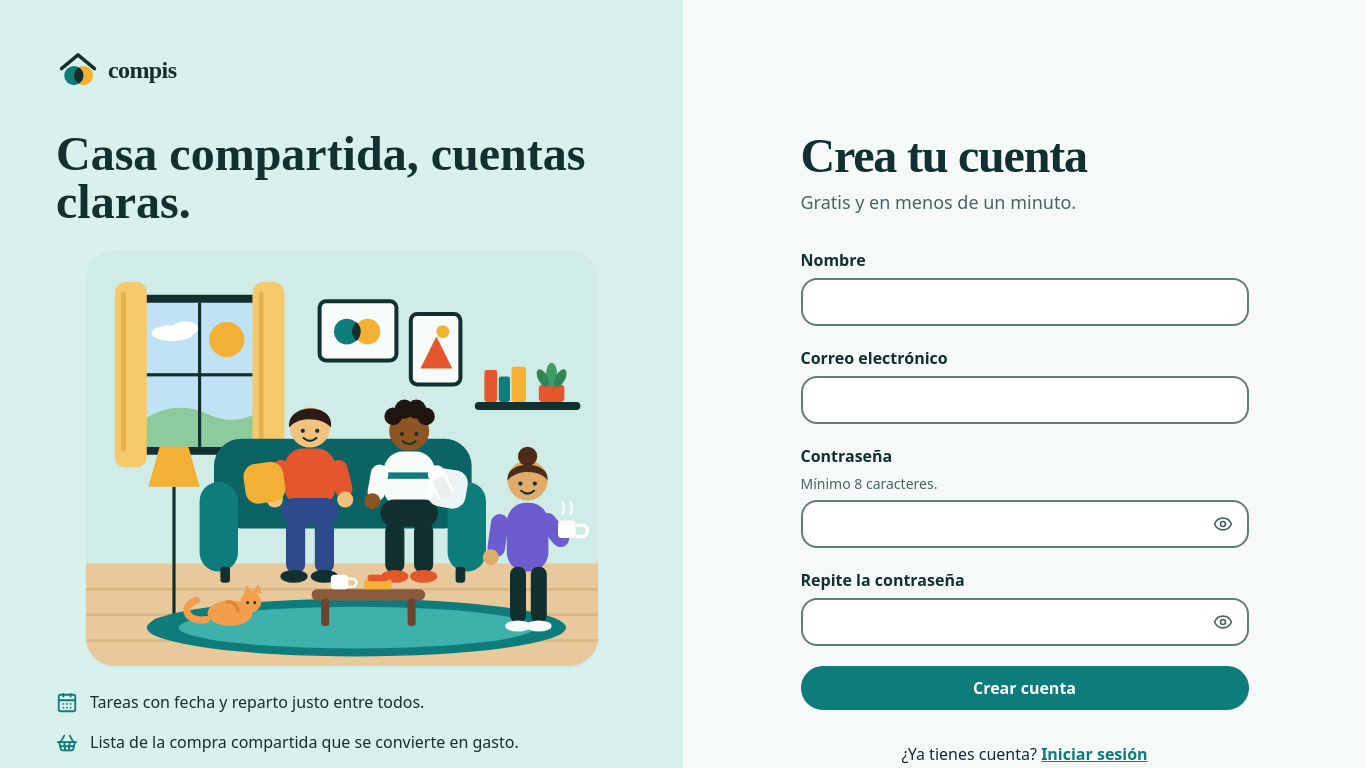
Test: signup › creates the account and goes to the login page
Type "Ana" into the field labelled "Nombre".
click(1024, 302); type("Ana")  # box [800,278,1248,326]
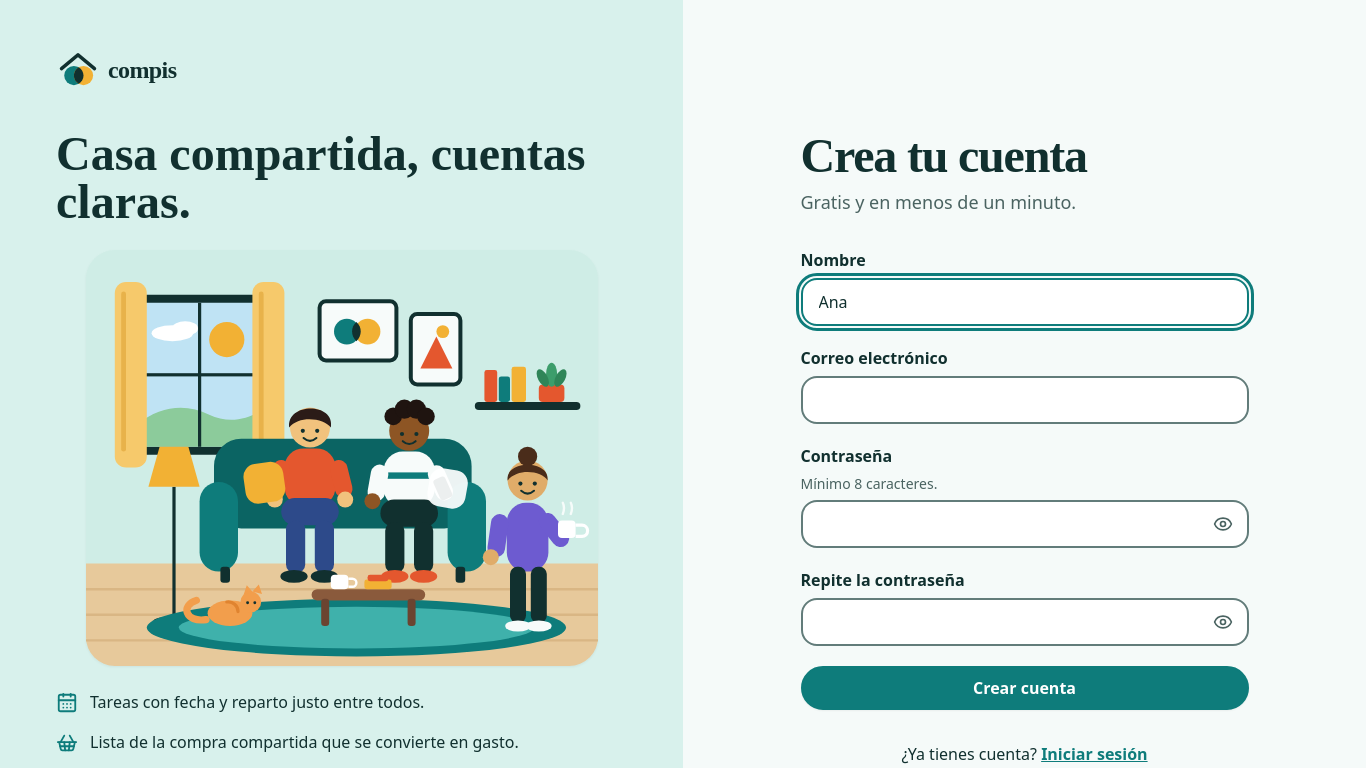
Type "ana@example.com" into the field labelled "Correo electrónico".
click(1024, 400); type("ana@example.com")  # box [800,376,1248,424]
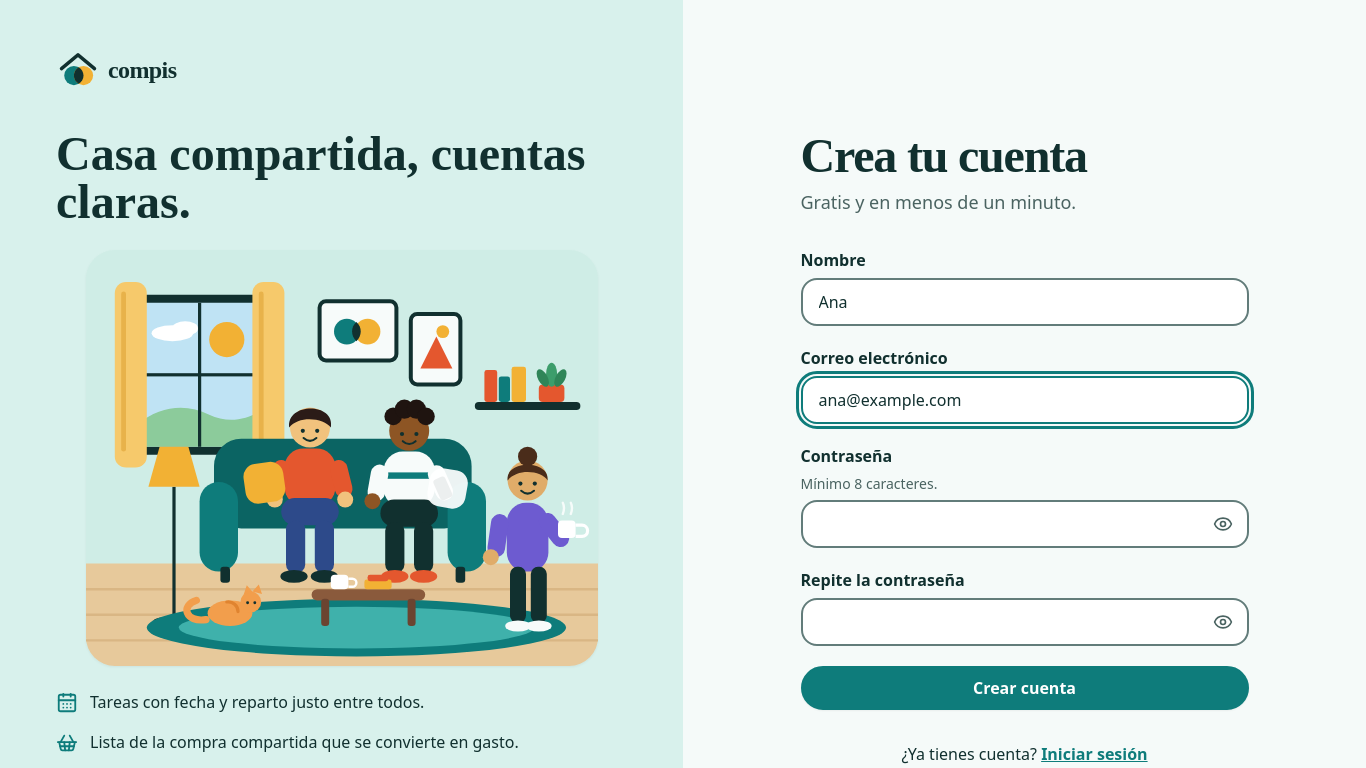
Type "password-123" into the password field labelled "Contraseña".
click(1024, 524); type("password-123")  # box [800,500,1248,548]
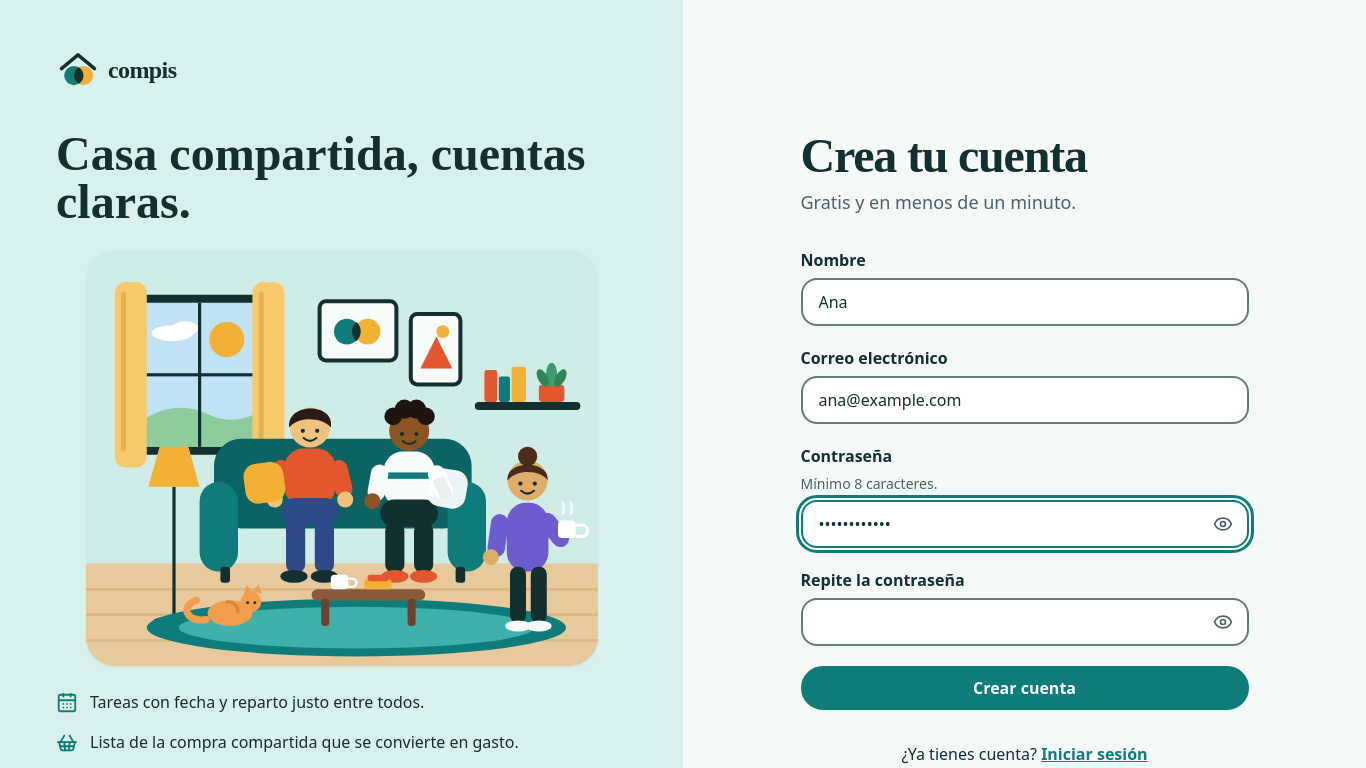
Type "password-123" into the password field labelled "Repite la contraseña".
click(1024, 622); type("password-123")  # box [800,598,1248,646]
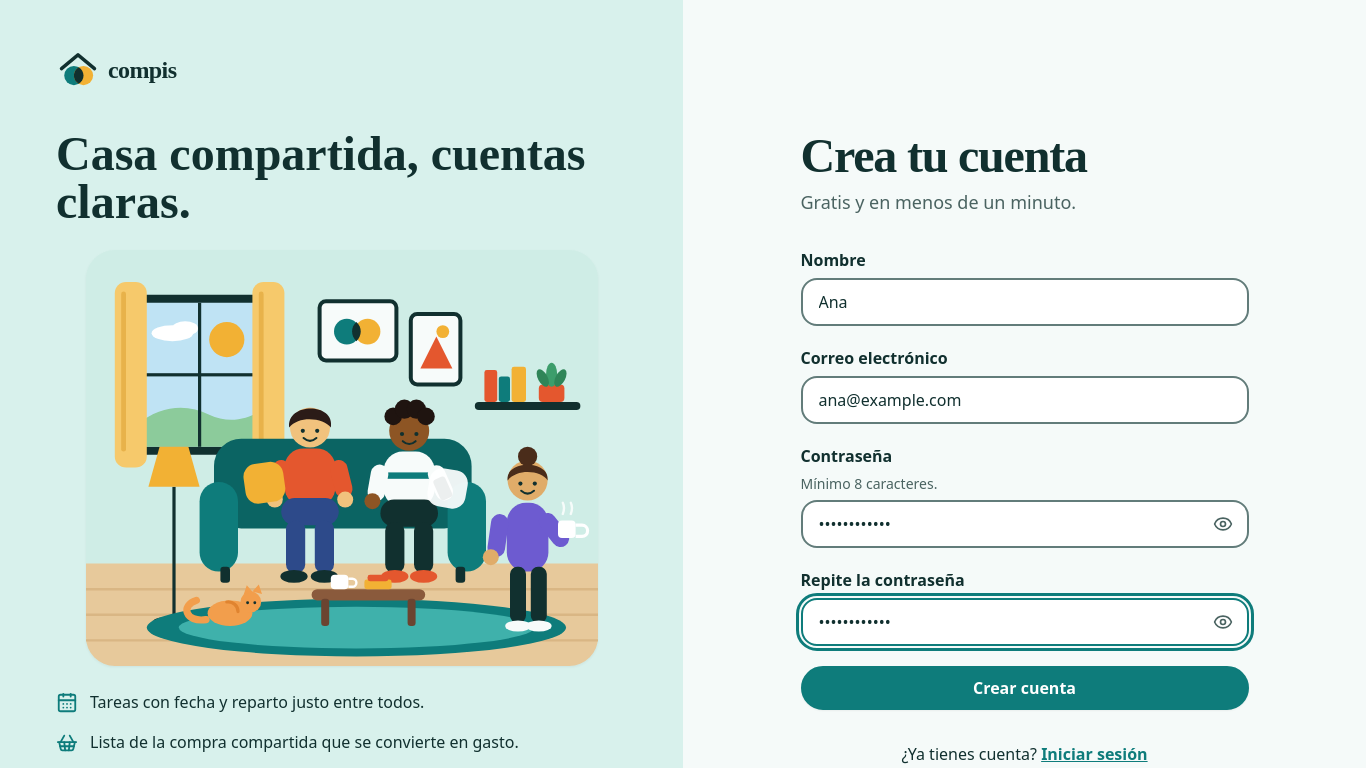
Click the button "Crear cuenta".
click(1024, 688)  # box [800,666,1248,710]
(page scrolled)
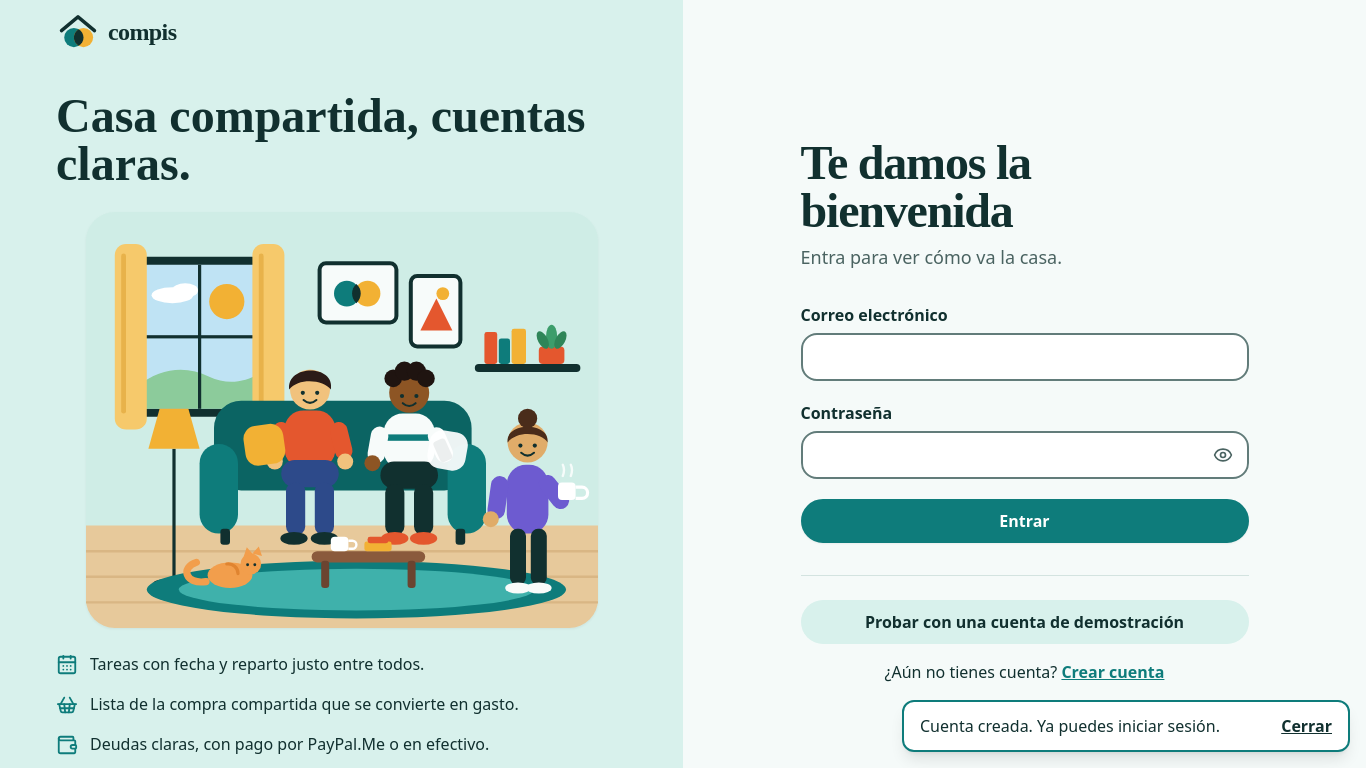
Result: the heading "Te damos la bienvenida" is shown at [800,136,1031,236]
